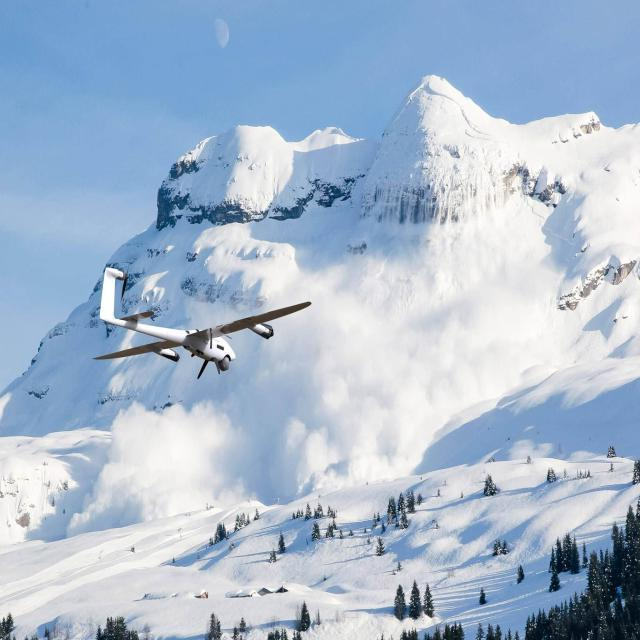iha: (76, 255, 321, 386)
